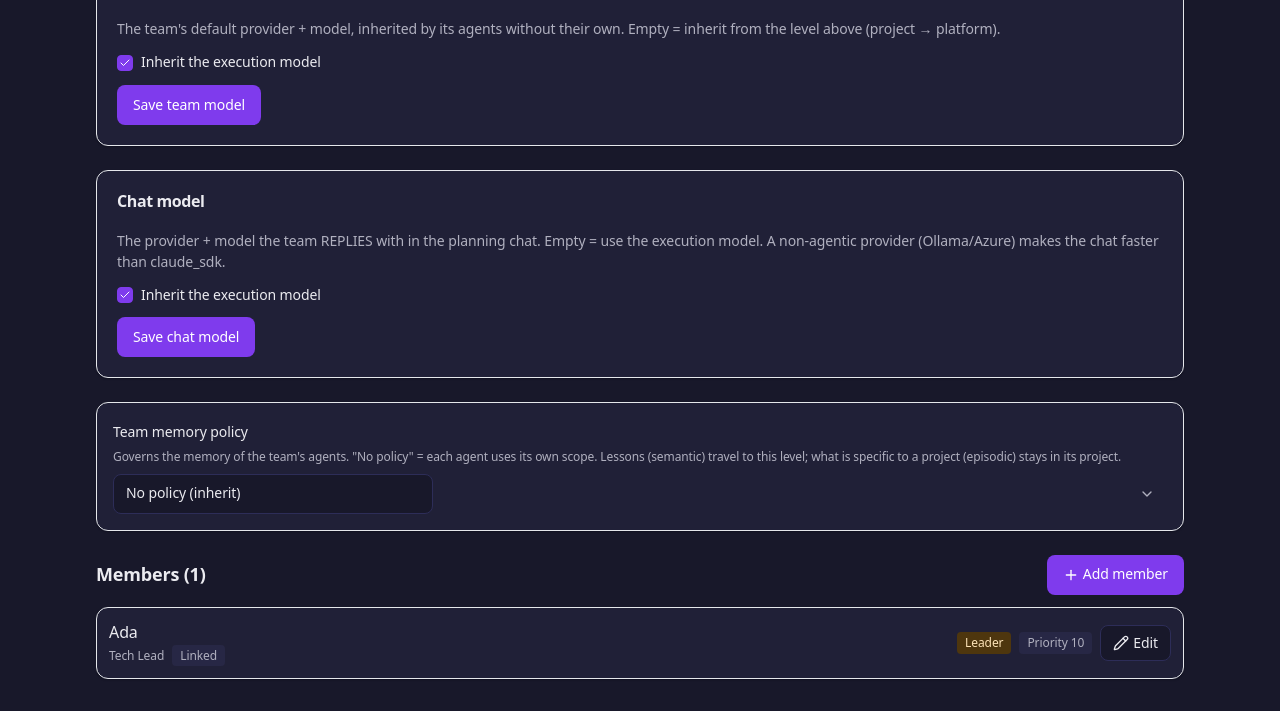
Scenario: detalle del equipo › el diálogo de edición de miembro se traduce
This screenshot has width=1280, height=711.
(page scrolled)
Click the button with test id "member-edit-a1" at (1136, 643), box x1=1100 y1=625 x2=1171 y2=661
(page scrolled)
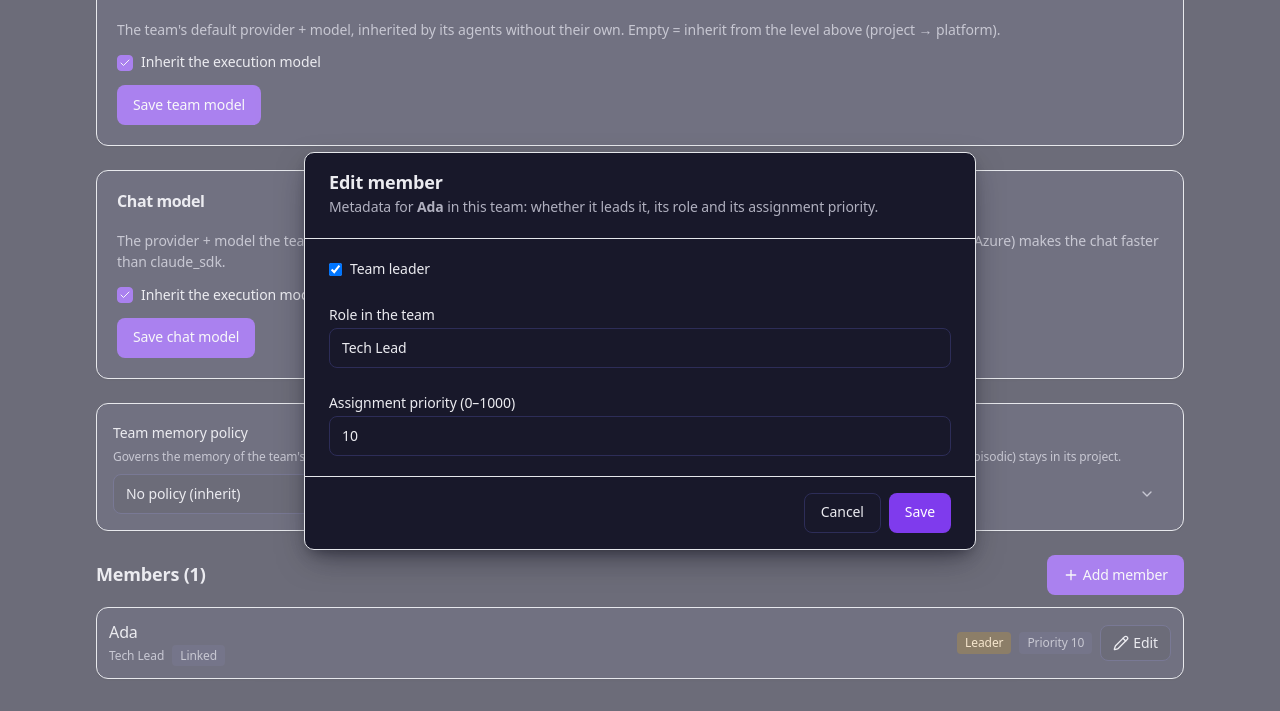
Check: the heading "Edit member" is shown, box x1=329 y1=170 x2=443 y2=194
Check: the text "Team leader" is shown, box x1=350 y1=259 x2=430 y2=280
Check: the field labelled "Role in the team" is shown, box x1=329 y1=328 x2=951 y2=368
